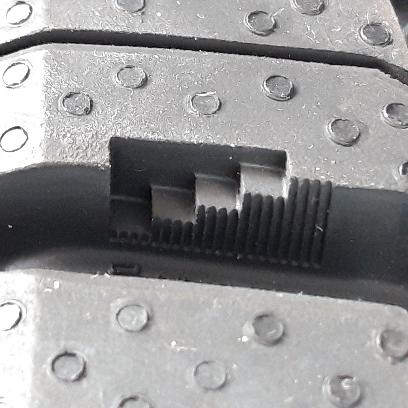temoin:100: (106, 132, 336, 280)
